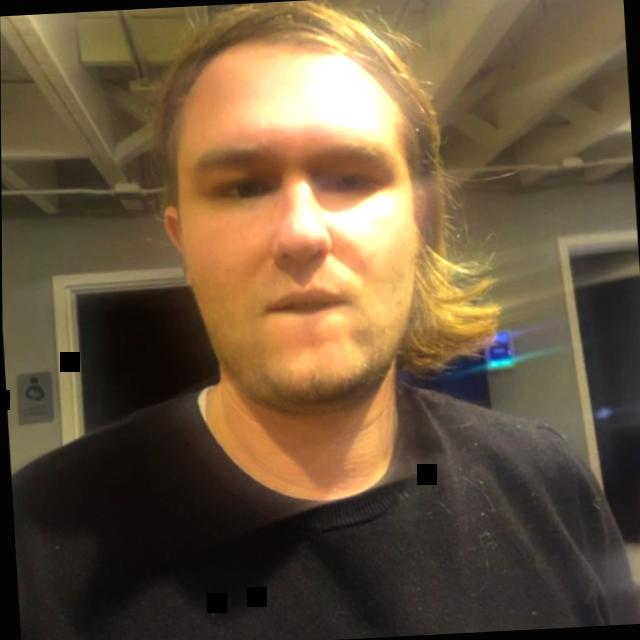NO-Mask: (128, 0, 500, 481)
